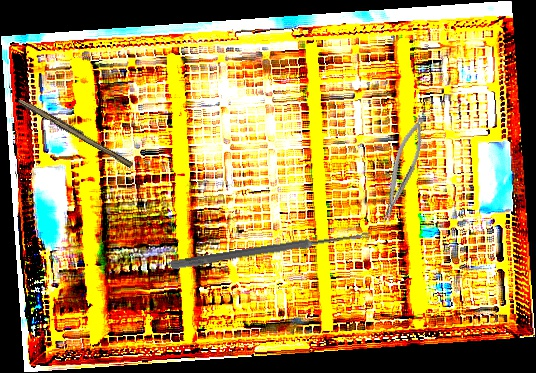Needle Holder: (371, 114, 433, 227)
Scalpel Handle: (15, 95, 136, 169)
Surgical Spoon: (170, 229, 371, 271)
